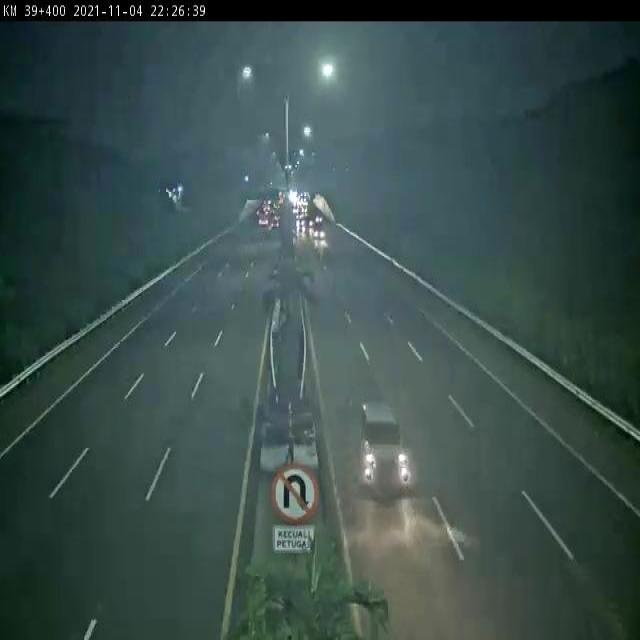car: (353, 406, 423, 510)
